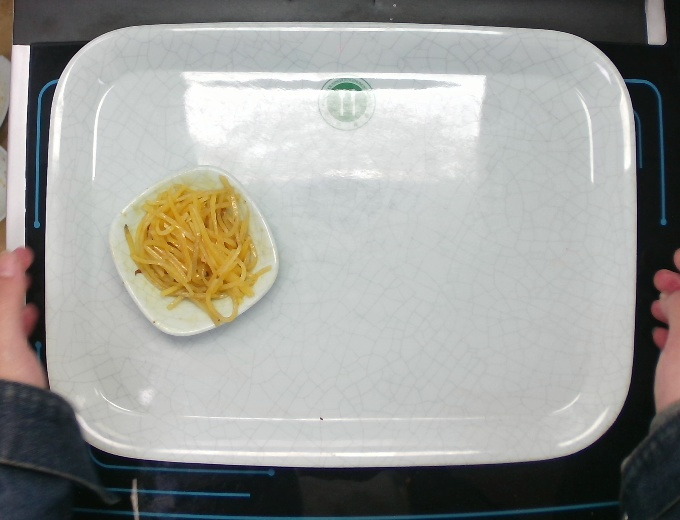JYsf-Si_Fang_Die: (110, 165, 280, 344)
